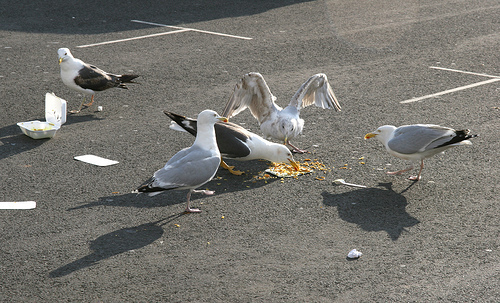litter: (15, 92, 67, 138), (71, 153, 118, 167), (265, 166, 313, 178), (332, 177, 367, 188), (0, 201, 36, 210), (345, 246, 362, 261), (98, 105, 104, 112)
